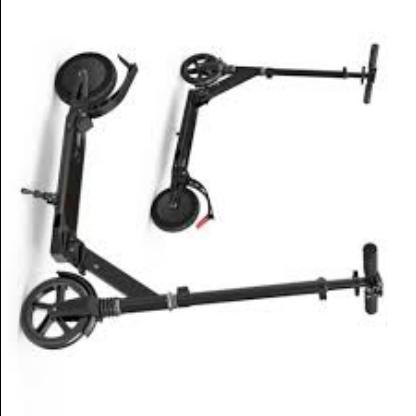bike: (19, 49, 400, 353)
